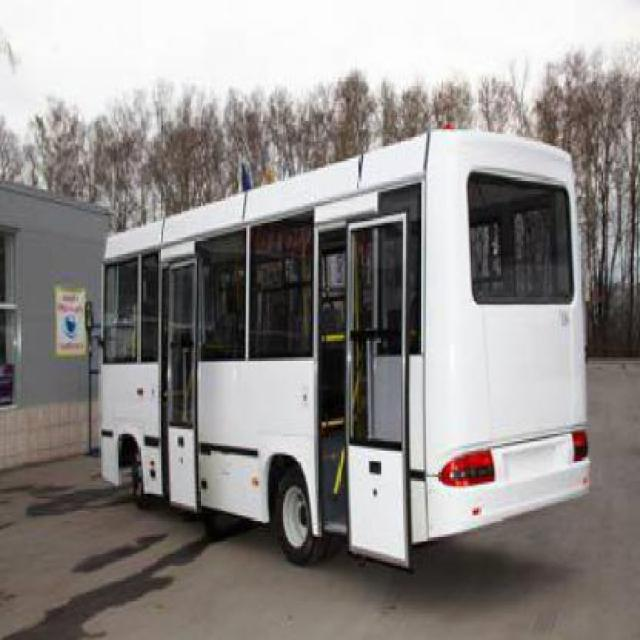bus: (97, 128, 589, 570)
